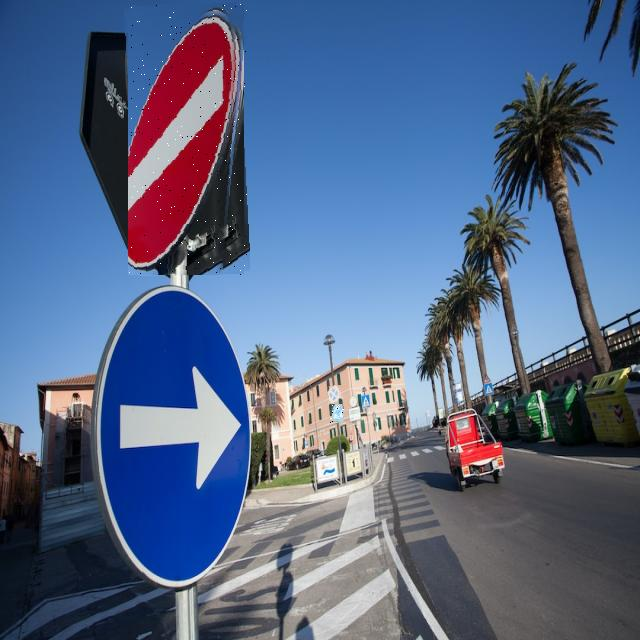no entry: (128, 4, 247, 275)
no stopping: (329, 386, 341, 404)
roundabout: (330, 404, 344, 423)
